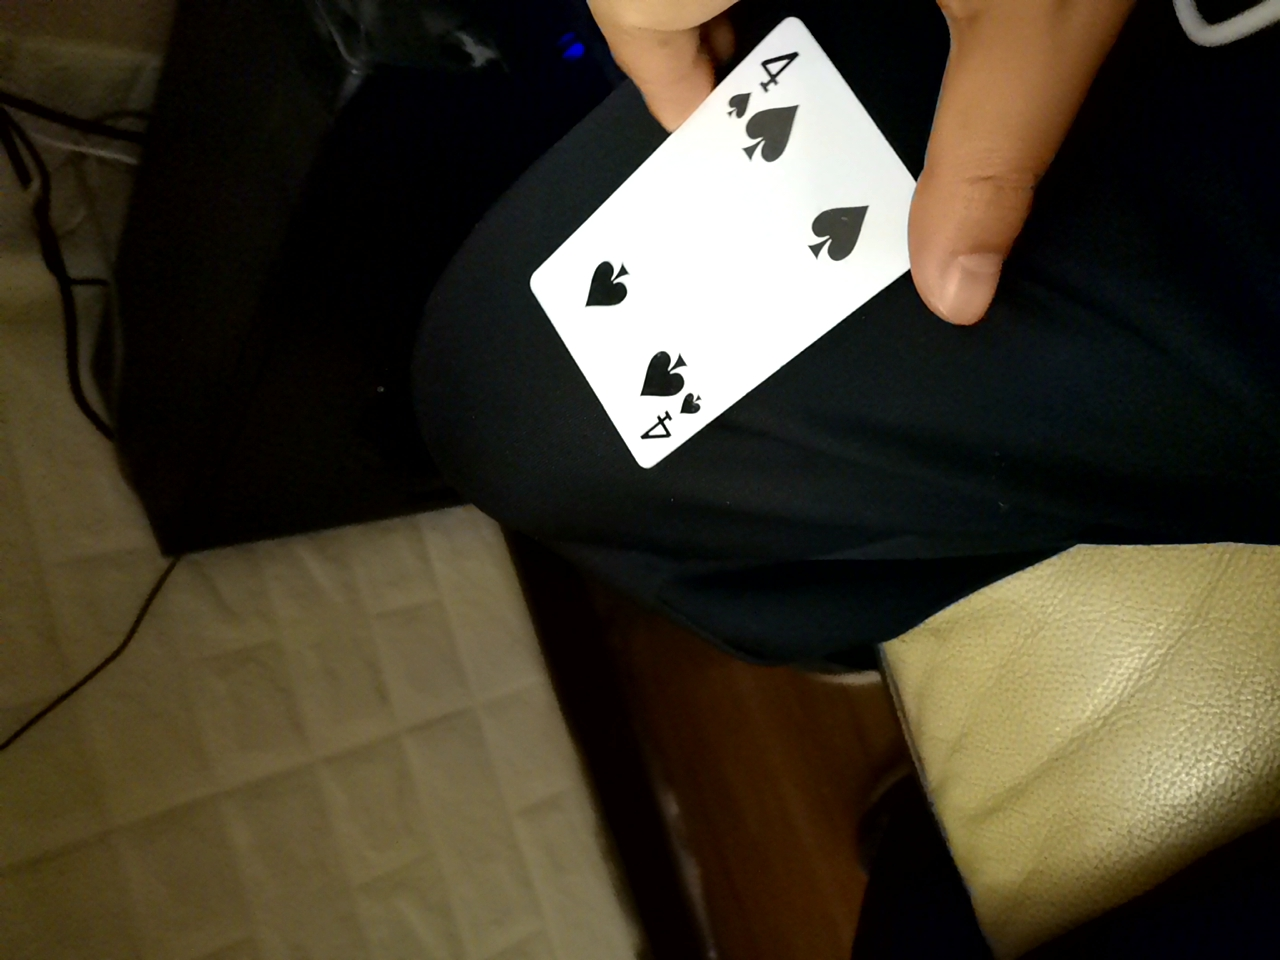ht 4: (504, 26, 951, 490)
